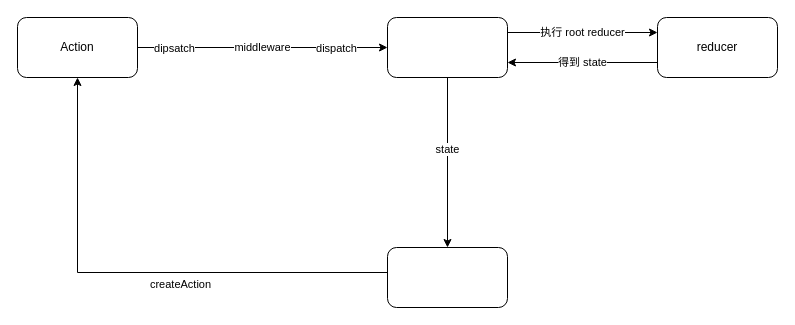
This 795x325 diagram has some shape labels left out. The box of each missing label's shape, as (x1, y1, x2, y2) in pixels:
Store: (386, 16, 508, 78)
View: (386, 246, 508, 308)
